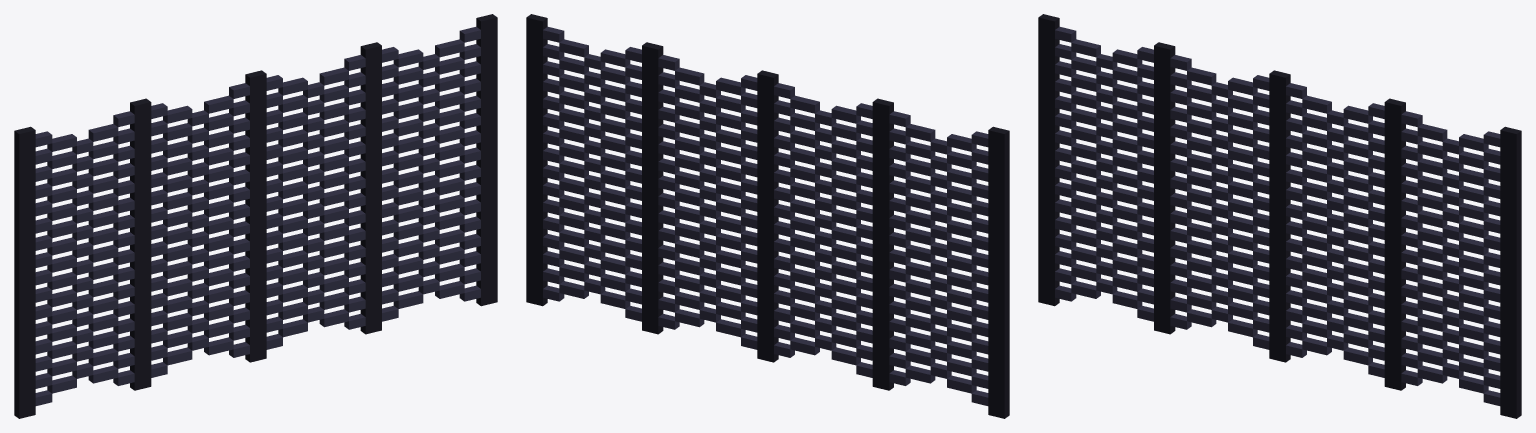
The model's file is PLOT_KANAL_SITKA.dae.
3 views of the same model, side by side, from view 1: azimuth 30°, elevation 25°; view 2: azimuth 150°, elevation 25°; view 3: azimuth 330°, elevation 25° (orthographic).
Parts seen in each view (by area): view 1: Content; view 2: Content; view 3: Content.
Boxes of the visible parts, bbox=[...] form: Content: bbox=[14, 14, 497, 418]; Content: bbox=[526, 14, 1009, 418]; Content: bbox=[1038, 14, 1521, 418].
Bounding box in the file's own units: 58 × 33 × 1.
1 material, 1 textured.
